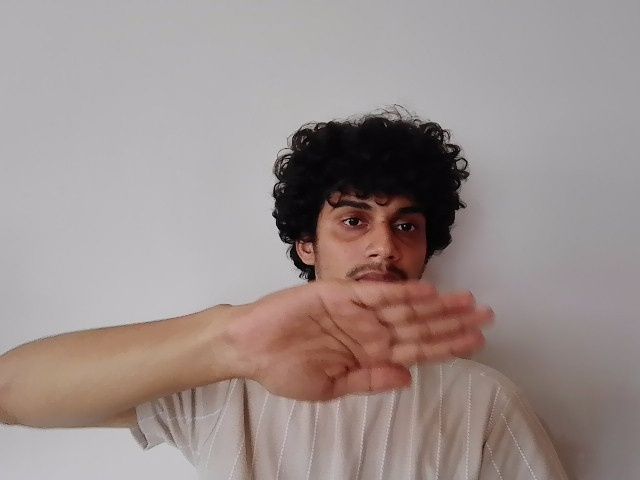hello: (247, 279, 496, 402)
